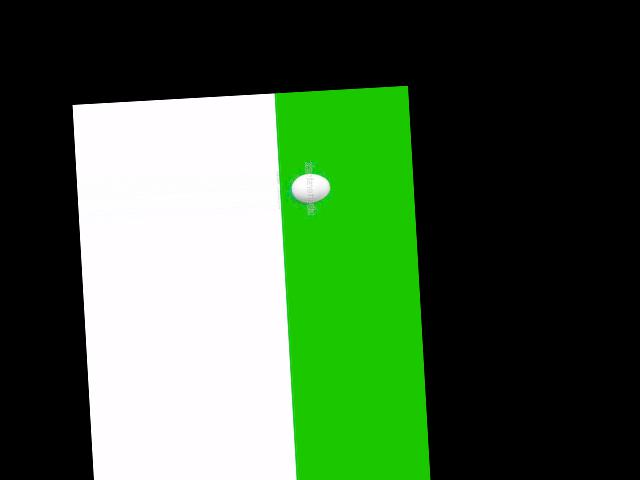egg: (290, 172, 330, 203)
